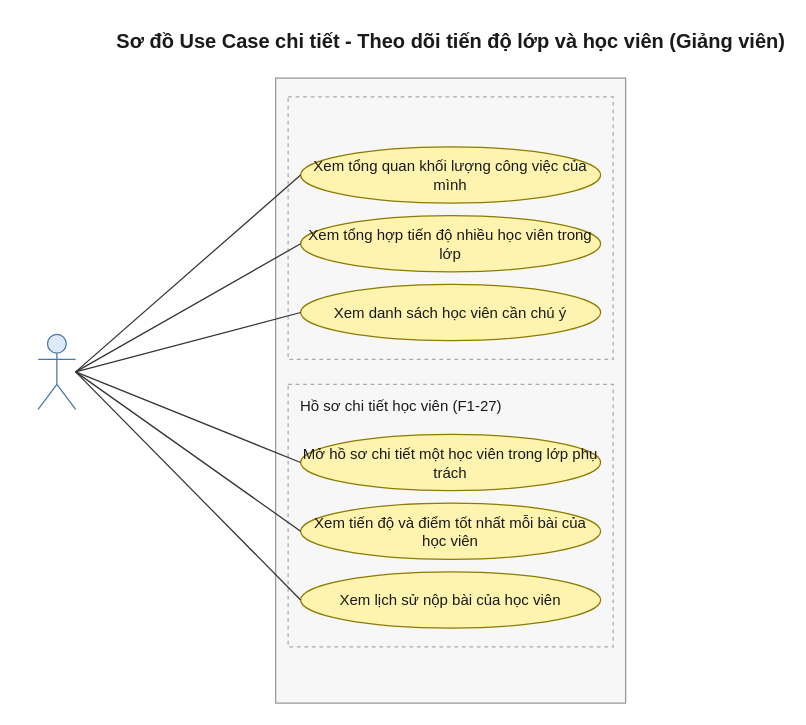
The diagram is 806 pixels wide and 725 high, and some of its shapes have lost their labels. The box of each missing label's shape, as (x1, y1, x2, y2) in pixels:
Chức năng Theo dõi tiến độ lớp và học viên: (274, 77, 626, 703)
Giảng viên: (37, 333, 76, 409)
Tổng quan và tiến độ lớp (F1-28, F1-30): (287, 96, 613, 359)
